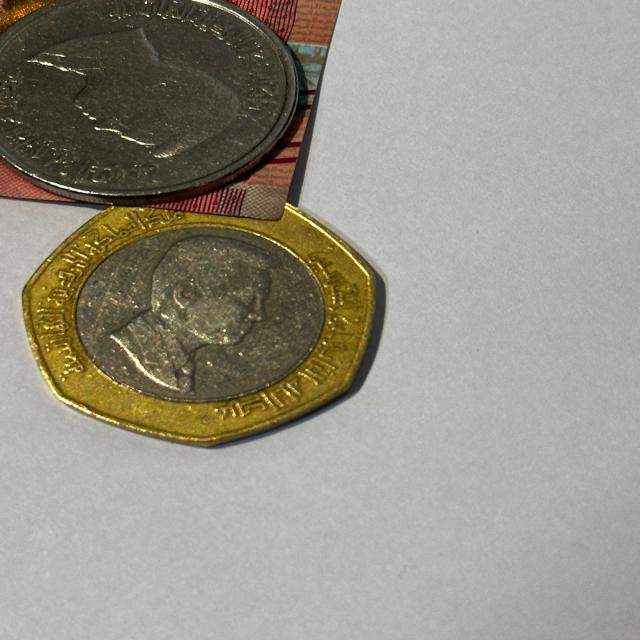10-coins: (0, 0, 304, 204)
50-coins: (22, 208, 376, 448)
